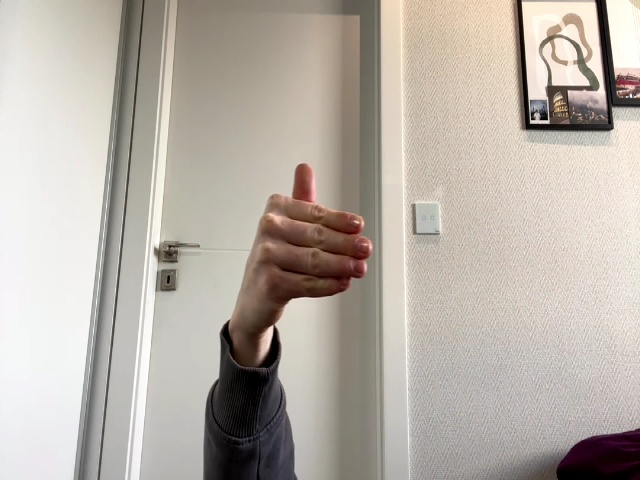M: (246, 163, 372, 334)
